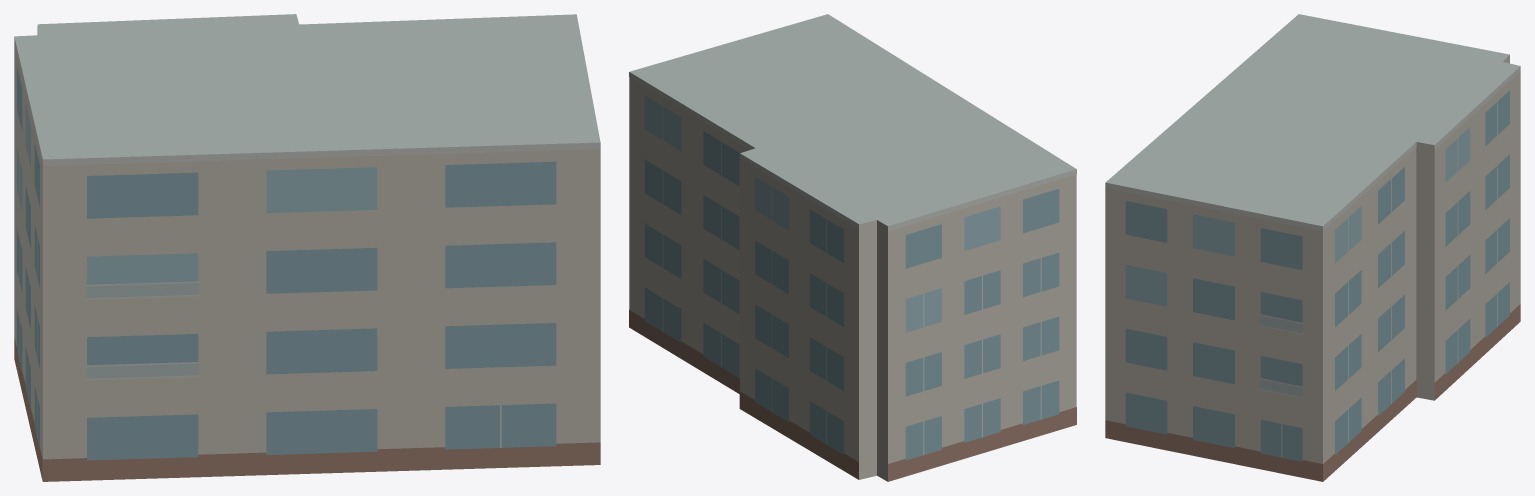
Rendered from survey-upis-33010438.glb.
3 views of the same model, side by side, from view 1: azimuth 30°, elevation 25°; view 2: azimuth 150°, elevation 25°; view 3: azimuth 270°, elevation 25° (orthographic). The views are drawn at different scales.
Visible parts, largest first — view 1: survey-upis-33010438.tmp; view 2: survey-upis-33010438.tmp; view 3: survey-upis-33010438.tmp.
Boxes of the visible parts, x1,y1,x2,y2 form: survey-upis-33010438.tmp: (14, 14, 600, 481); survey-upis-33010438.tmp: (629, 14, 1076, 481); survey-upis-33010438.tmp: (1105, 14, 1520, 481).
Bounding box in the file's own units: 21.76 × 12.2 × 17.98.
